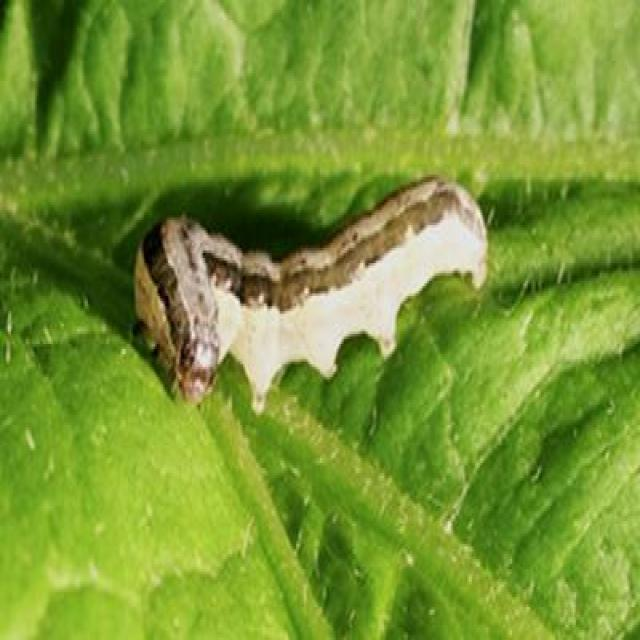BeetArmyWorm-Larva-: (122, 176, 492, 416)
